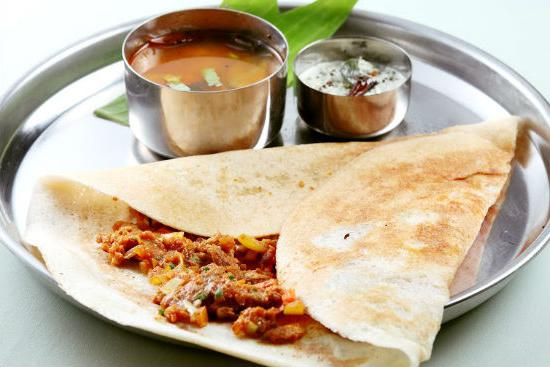dosa: (30, 119, 533, 367)
